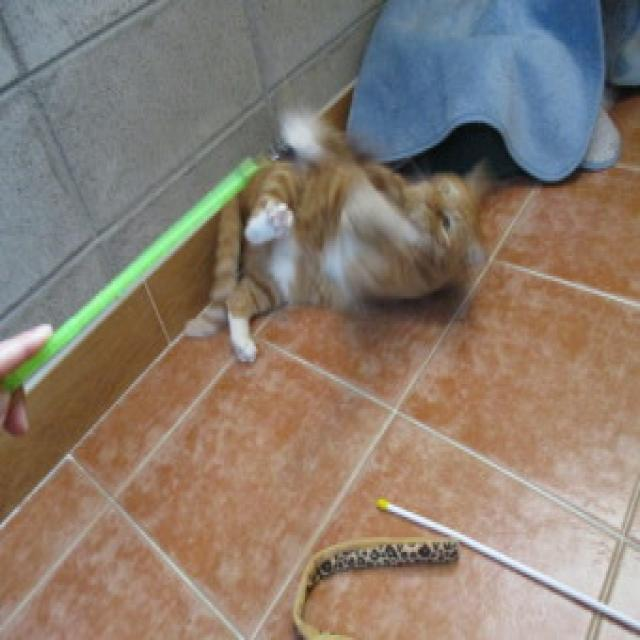cat: (182, 105, 490, 363)
